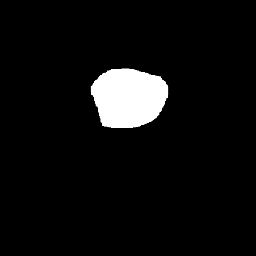mass: (96, 72, 161, 128)
